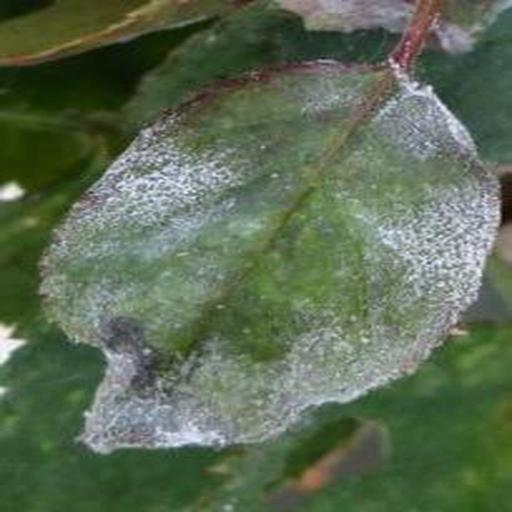powdery_mildew: (40, 58, 500, 451)
